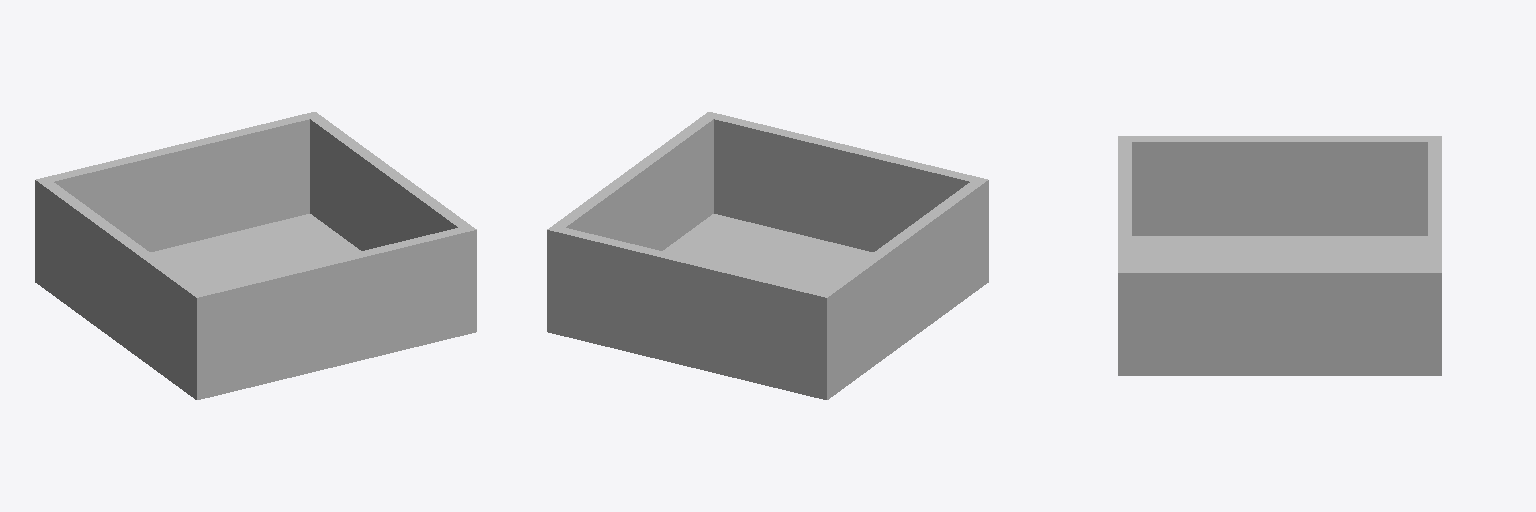
Rendered from bin2.obj.
3 renders of one model, left to right at view 1: azimuth 30°, elevation 25°; view 2: azimuth 150°, elevation 25°; view 3: azimuth 270°, elevation 25°, orthographic.
Visible parts, largest first — view 1: Cube_Cube.002; view 2: Cube_Cube.002; view 3: Cube_Cube.002.
Boxes of the visible parts, <box> form: Cube_Cube.002: <box>35,112,476,399</box>; Cube_Cube.002: <box>547,112,988,399</box>; Cube_Cube.002: <box>1118,136,1441,375</box>.
Size of the model in its own units: 20 by 7 by 20.